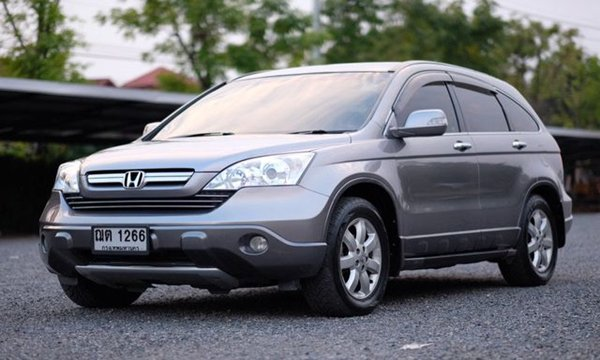pickup: (37, 56, 576, 316)
